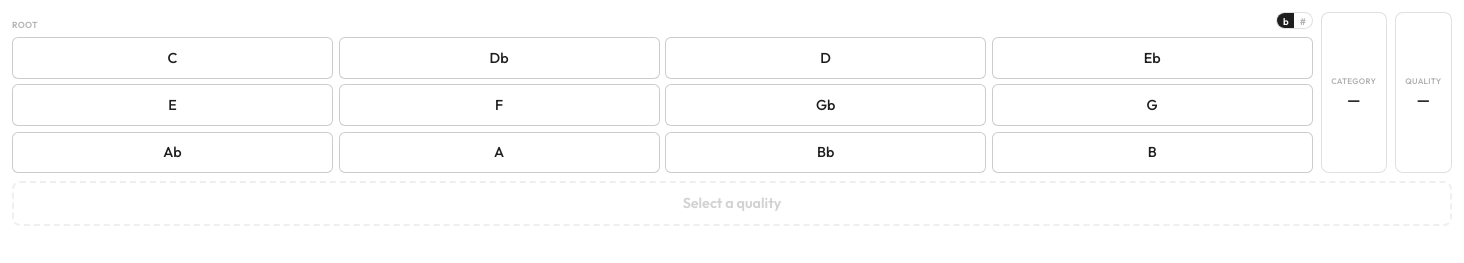
ChordSelector — stepping mode › clicking a step summary navigates back to that step
The width and height of the screenshot is (1464, 263).
Advance through steps
Click the button "G": (1152, 105) [992,84,1313,126]
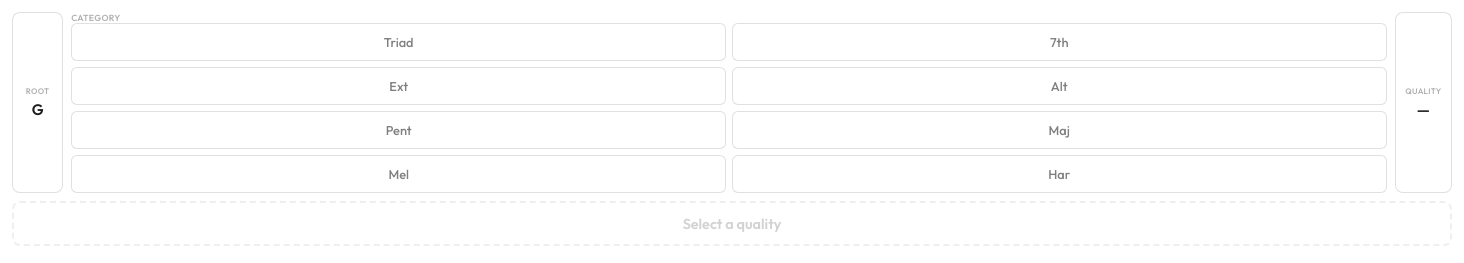
Click the button "Triad": (399, 42) [71,23,726,61]
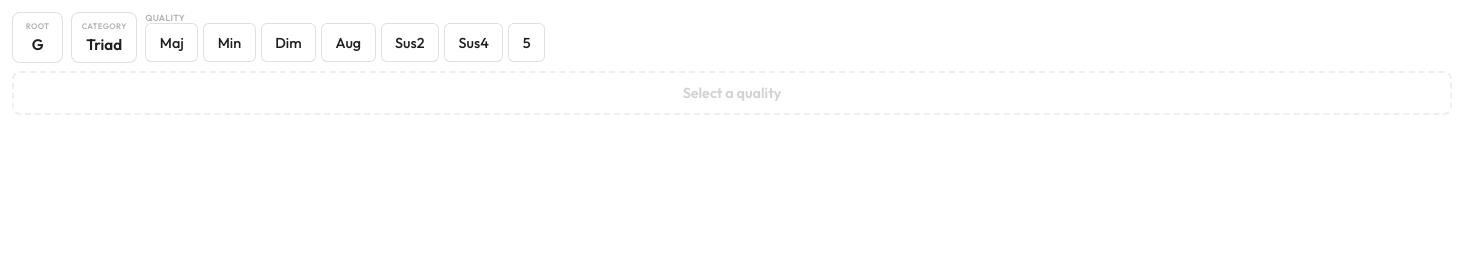
Click the button with class "step-summary" showing "Root G": (38, 38) [12,12,63,63]
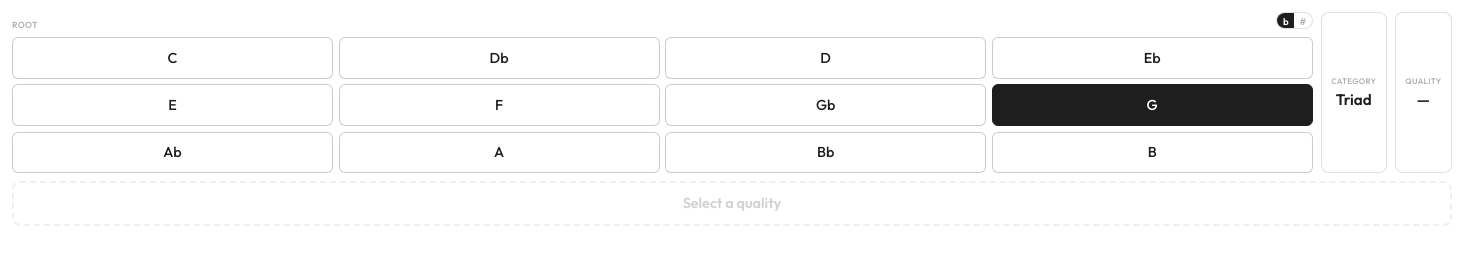
Check: the number of buttons with class "chord-root-btn" is 12
